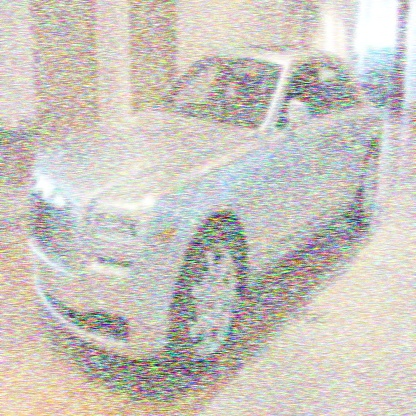Vehicle: (26, 41, 384, 374)
